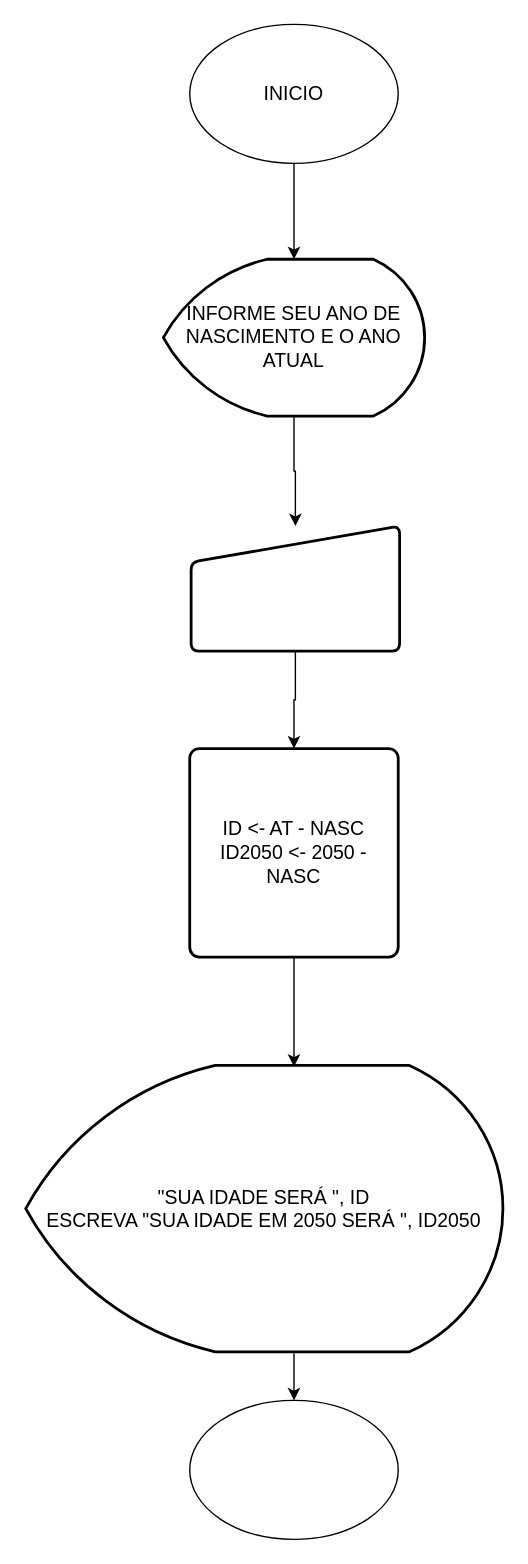
Some shapes in this 528 by 1564 pixel diagram are drawn without their labels. The shapes that lost their labels are listed below. From the top down, each one's centre as x and y in pixels, then its label:
At pixel 294 588: "NASC, AT".
At pixel 293 1469: "FIM".
